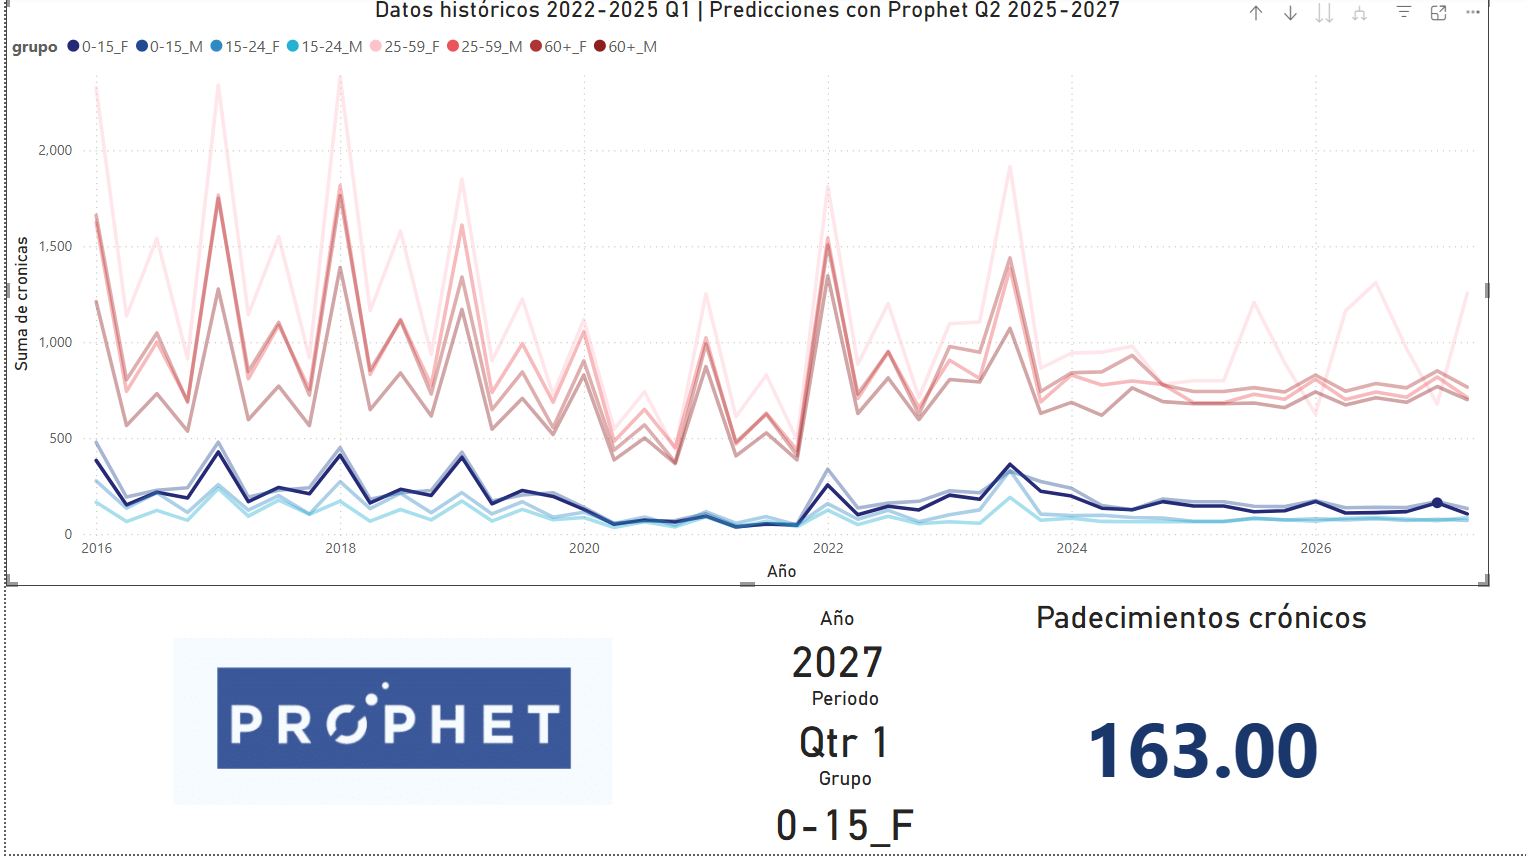

The dashboard page shown, as its layout file describes it:
{"tool":"powerbi","page":{"name":"Predicción","canvas":[1280,720],"ordinal":2},"visuals":[{"type":"lineChart","title":"Datos históricos 2022-2025 Q1 | Predicciones con Prophet Q2 2025-2027","fields":{"Category":["historico_predicciones.periodo.Variación.Jerarquía de fechas.Año","historico_predicciones.periodo.Variación.Jerarquía de fechas.Trimestre"],"Y":["Sum(historico_predicciones.cronicas)"],"Series":["historico_predicciones.grupo"]},"box":[0,0,1243.8,495],"z":0},{"type":"card","title":"Grupo","fields":{"Values":["Min(historico_predicciones.grupo)"]},"box":[590,646.2,227.5,73.8],"z":1000},{"type":"card","title":"Padecimientos crónicos","fields":{"Values":["Sum(historico_predicciones.cronicas)"]},"box":[811.2,505,382.5,215],"z":2000},{"type":"card","title":"Periodo","fields":{"Values":["Min(historico_predicciones.periodo.Variación.Jerarquía de fechas.Trimestre)"]},"box":[596.2,578.8,215,67.5],"z":3000},{"type":"card","title":"Año","fields":{"Values":["Min(historico_predicciones.periodo)"]},"box":[596.2,511.2,201.2,67.5],"z":4000},{"type":"image","box":[26.2,533.8,596.2,150],"z":5000}]}

Visuals, with their boxes on the page's 1280x720 design canvas (x1, y1, x2, y2). These are canvas units, not pixel positions in the 1526x856 screenshot, which may show the page scaled, cropped or inside an application window:
"Datos históricos 2022-2025 Q1 | Predicciones con Prophet Q2 2025-2027" lineChart: <box>0,0,1244,495</box>
"Grupo" card: <box>590,646,818,720</box>
"Padecimientos crónicos" card: <box>811,505,1194,720</box>
"Periodo" card: <box>596,579,811,646</box>
"Año" card: <box>596,511,797,579</box>
image: <box>26,534,622,684</box>
